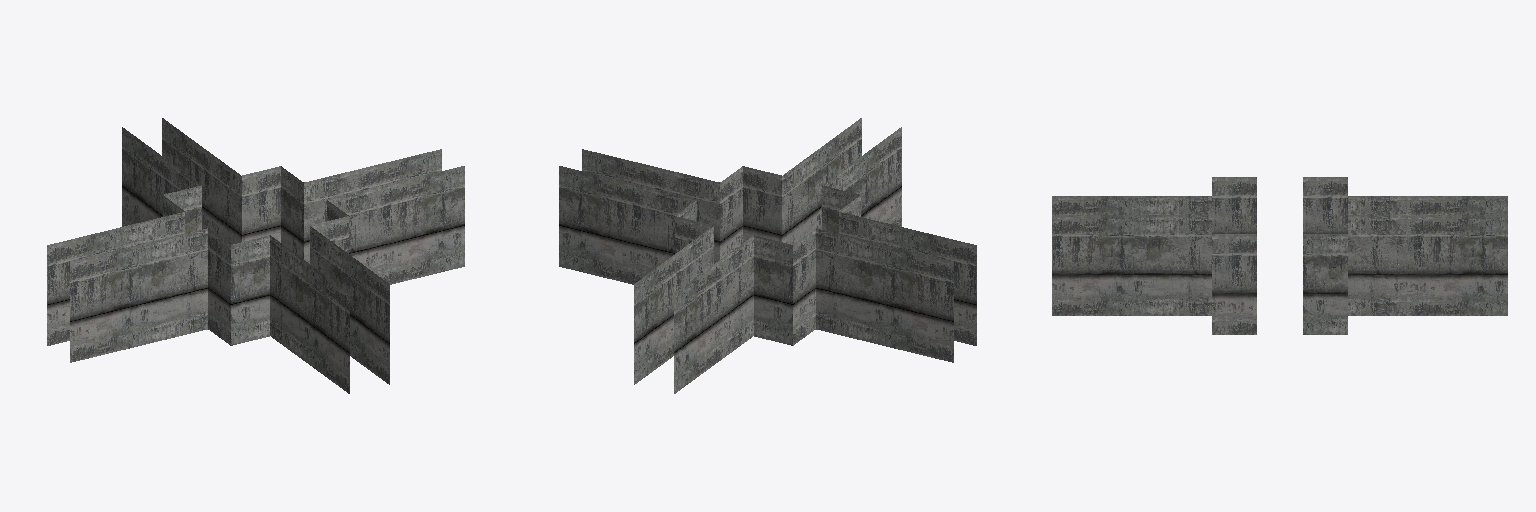
The picture shows the model from 3 angles: view 1: azimuth 30°, elevation 25°; view 2: azimuth 150°, elevation 25°; view 3: azimuth 270°, elevation 25°; orthographic projection.
Visible parts, largest first — view 1: Room; view 2: Room; view 3: Room.
Boxes of the visible parts, x1=… form: Room: x1=47, y1=118, x2=464, y2=393; Room: x1=559, y1=118, x2=976, y2=393; Room: x1=1052, y1=177, x2=1507, y2=334.
Bounding box in the file's own units: 10 × 2.45 × 10.
1 materials, 1 textured.